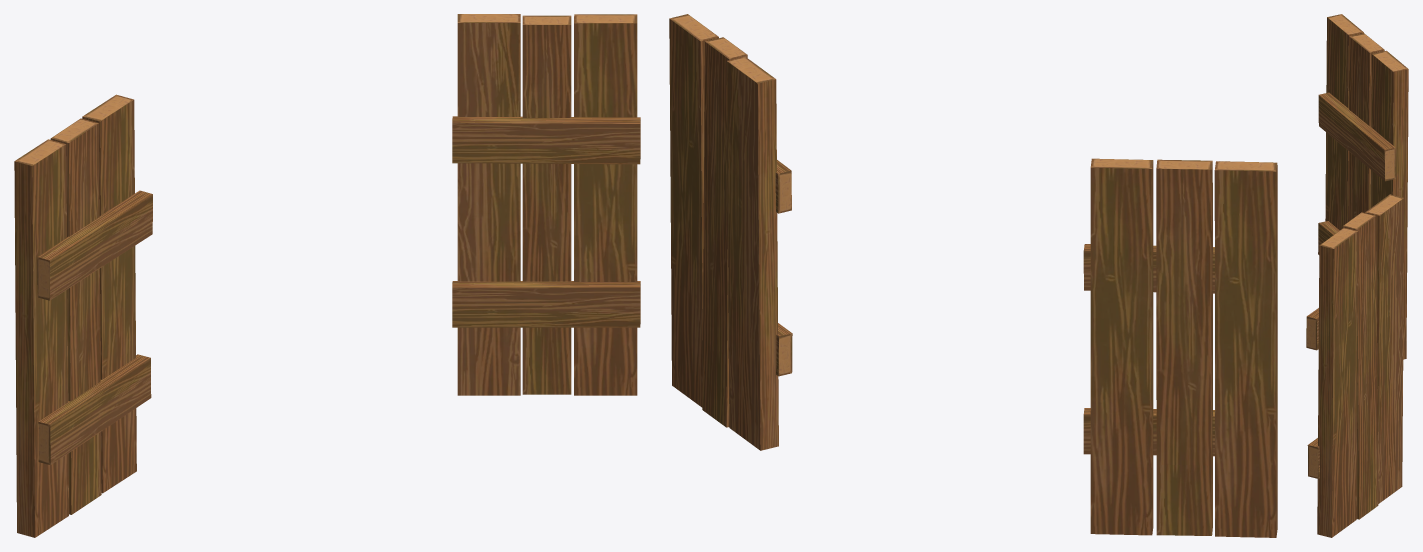
File: WindowShutters_Wide_Flat_Open.glb
The picture shows the model from 3 angles, left to right: view 1: azimuth 30°, elevation 25°; view 2: azimuth 150°, elevation 25°; view 3: azimuth 270°, elevation 25°; orthographic projection. The views are drawn at different scales.
Parts seen in each view (by area): view 1: WindowShutters_Wide_Flat_Open; view 2: WindowShutters_Wide_Flat_Open; view 3: WindowShutters_Wide_Flat_Open.
Part boxes in pixels (x1,y1,x2,y2): WindowShutters_Wide_Flat_Open: (14, 14, 640, 537); WindowShutters_Wide_Flat_Open: (669, 14, 1277, 537); WindowShutters_Wide_Flat_Open: (1306, 14, 1408, 537).
Bounding box in the file's own units: 2.48 × 1.42 × 0.4563.
1 material, 1 textured.
